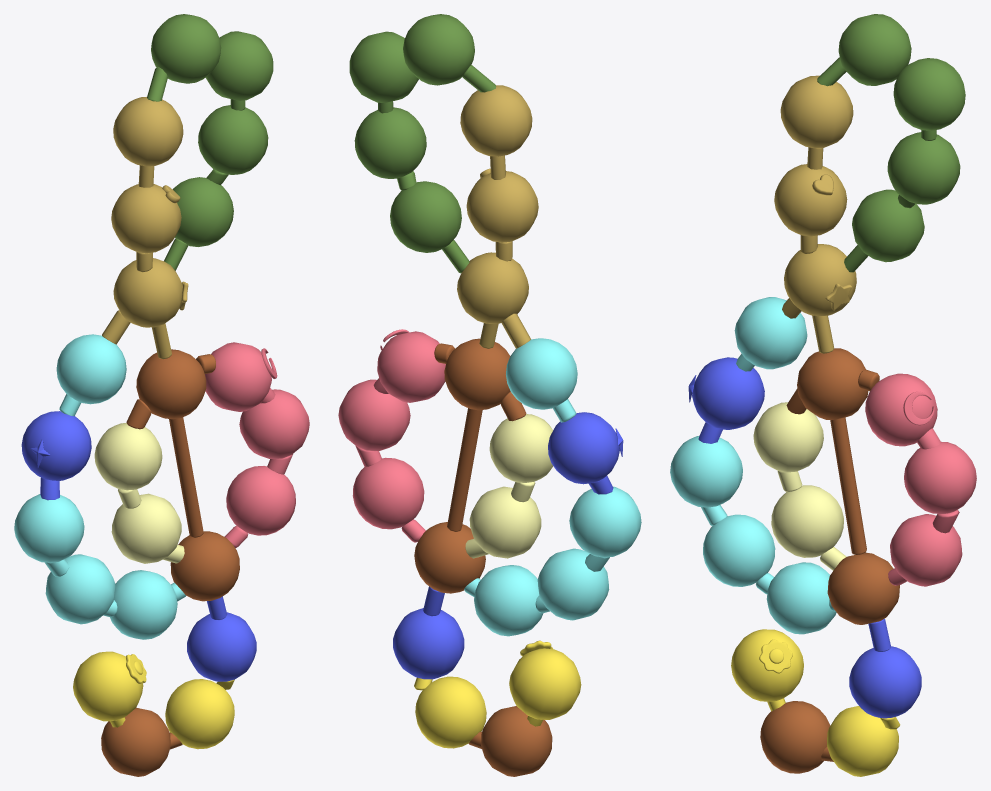
Rendered from MusicalLego.fbx.
The picture shows the model from 3 angles, left to right: view 1: azimuth 30°, elevation 25°; view 2: azimuth 150°, elevation 25°; view 3: azimuth 330°, elevation 25°; orthographic projection. The views are drawn at different scales.
Parts seen in each view (by area): view 1: M_MusicalLego, D_MusicalLego_5, D_MusicalLego_22; view 2: M_MusicalLego, D_MusicalLego_5, D_MusicalLego_22; view 3: M_MusicalLego, D_MusicalLego_5, D_MusicalLego_28, D_MusicalLego_15, D_MusicalLego_3.
Boxes of the visible parts, x1,y1,x2,y2 form: M_MusicalLego: [14, 14, 309, 776]; D_MusicalLego_5: [169, 417, 203, 537]; D_MusicalLego_22: [102, 310, 130, 344]; M_MusicalLego: [338, 14, 641, 776]; D_MusicalLego_5: [447, 408, 482, 531]; D_MusicalLego_22: [501, 313, 530, 348]; M_MusicalLego: [670, 14, 976, 776]; D_MusicalLego_5: [830, 417, 866, 554]; D_MusicalLego_28: [759, 639, 792, 673]; D_MusicalLego_15: [812, 315, 833, 353]; D_MusicalLego_3: [868, 619, 890, 651].
Bounding box in the file's own units: 361 × 882 × 110.
